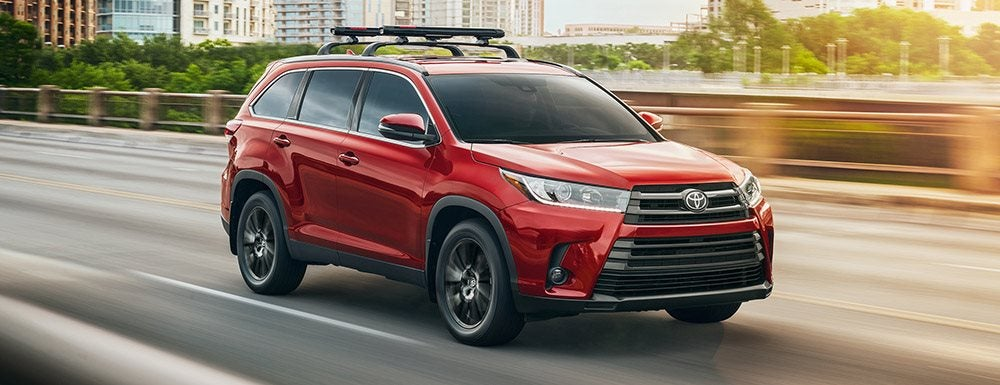Toyota RAV-4: (217, 48, 778, 350)
